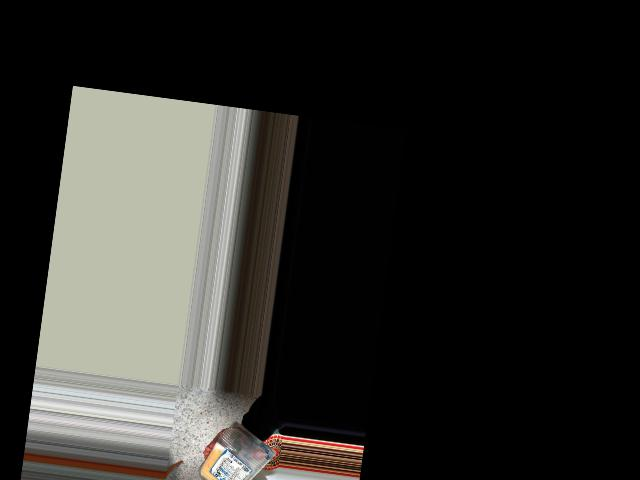cheese: (205, 428, 271, 480)
